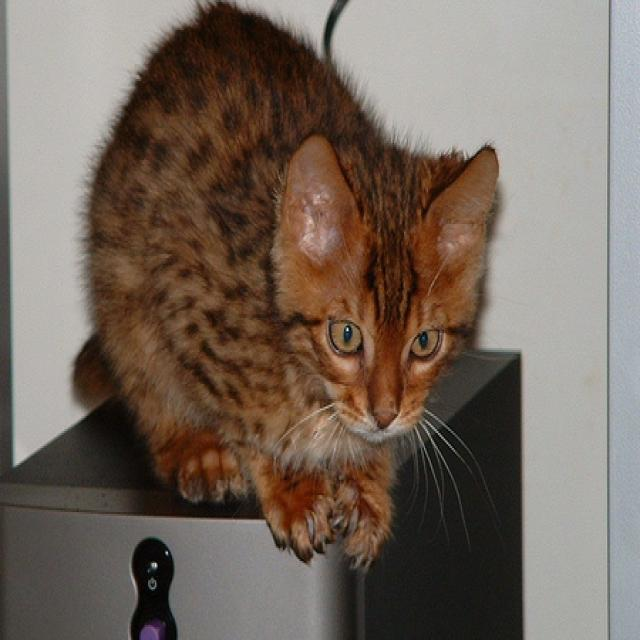Bengal: (58, 0, 518, 595)
